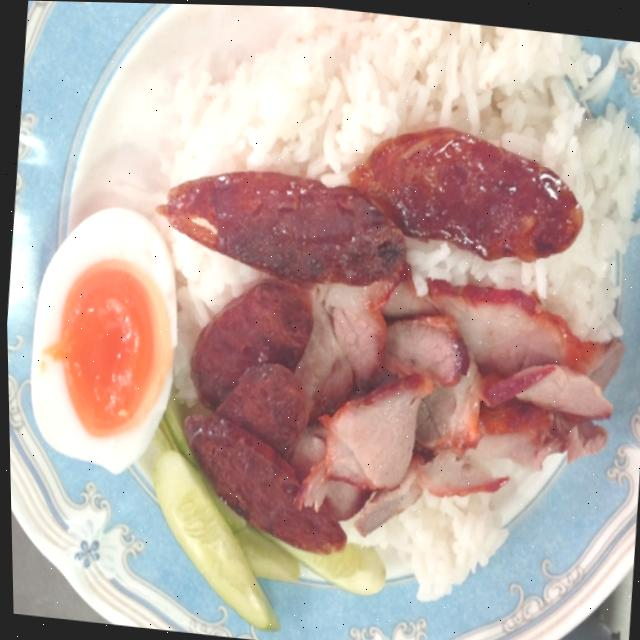猪肉菜式: (4, 10, 640, 632)
